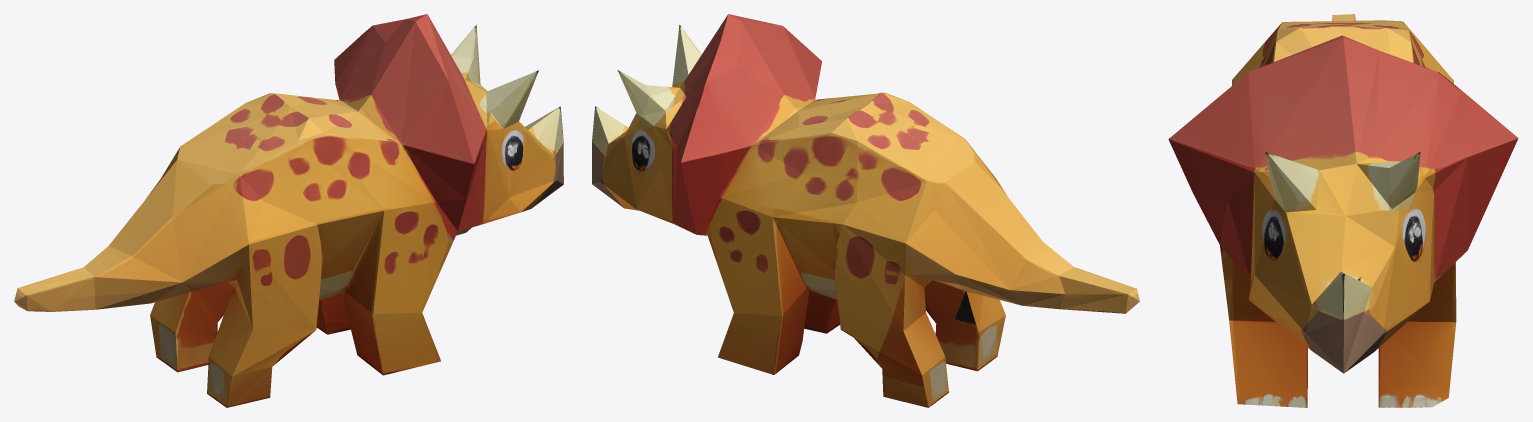
The picture shows the model from 3 angles, left to right: view 1: azimuth 30°, elevation 25°; view 2: azimuth 150°, elevation 25°; view 3: azimuth 270°, elevation 25°; orthographic projection. The views are drawn at different scales.
Parts seen in each view (by area): view 1: Figure; view 2: Figure; view 3: Figure.
Part boxes in pixels (x1=…): Figure: x1=14, y1=14, x2=563, y2=407; Figure: x1=592, y1=14, x2=1139, y2=407; Figure: x1=1168, y1=14, x2=1518, y2=407.
Size of the model in its own units: 0.719 by 0.3896 by 0.3194.
Materials: 1 (1 with a texture image).
